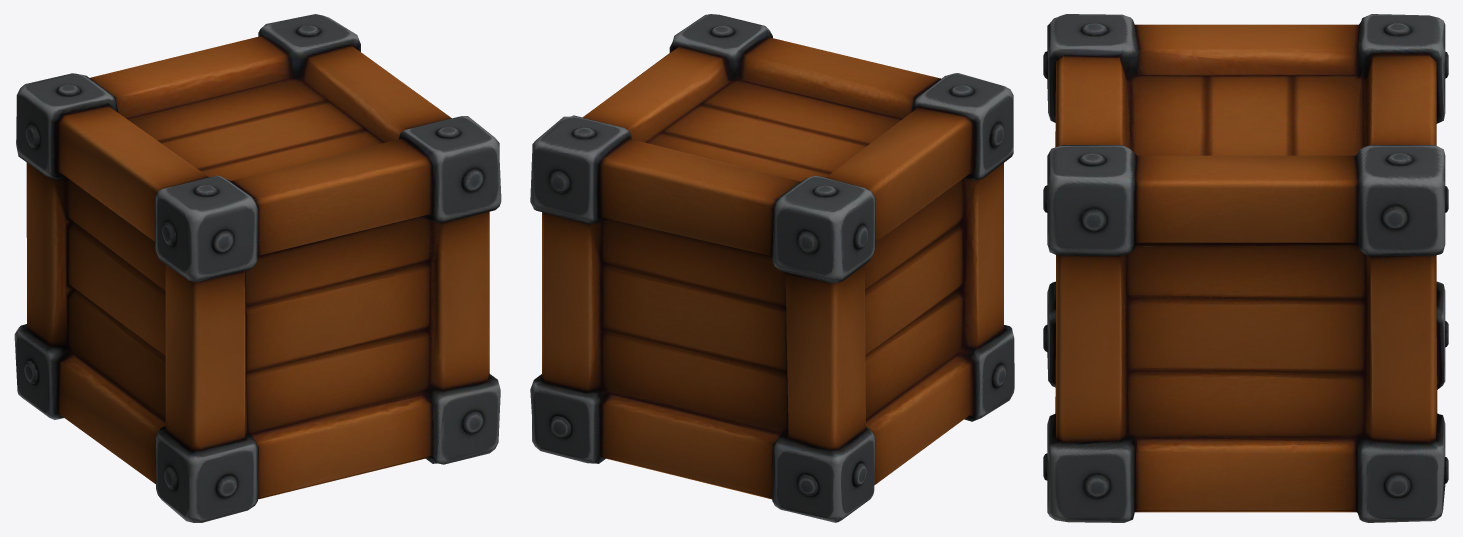
Rendered from selected.glb.
3 renders of one model, left to right at view 1: azimuth 30°, elevation 25°; view 2: azimuth 150°, elevation 25°; view 3: azimuth 270°, elevation 25°, orthographic. The views are drawn at different scales.
Parts seen in each view (by area): view 1: tripo_node_977db1a3-f8fa-4c63-8ea7-c5958f25f4ca; view 2: tripo_node_977db1a3-f8fa-4c63-8ea7-c5958f25f4ca; view 3: tripo_node_977db1a3-f8fa-4c63-8ea7-c5958f25f4ca.
Boxes of the visible parts, x1,y1,x2,y2 form: tripo_node_977db1a3-f8fa-4c63-8ea7-c5958f25f4ca: [14, 14, 501, 522]; tripo_node_977db1a3-f8fa-4c63-8ea7-c5958f25f4ca: [530, 14, 1014, 522]; tripo_node_977db1a3-f8fa-4c63-8ea7-c5958f25f4ca: [1043, 14, 1448, 522].
Size of the model in its own units: 0.998 by 0.9551 by 0.998.
Materials: 1 (1 with a texture image).
